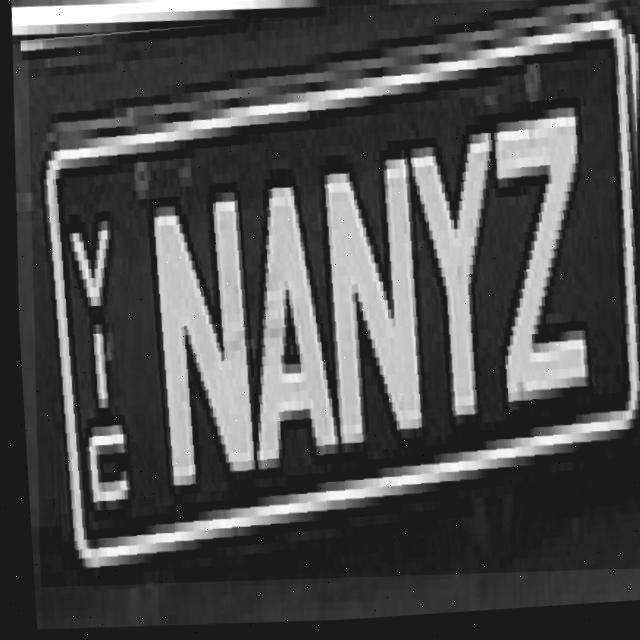LicensePlate: (6, 0, 640, 608)
